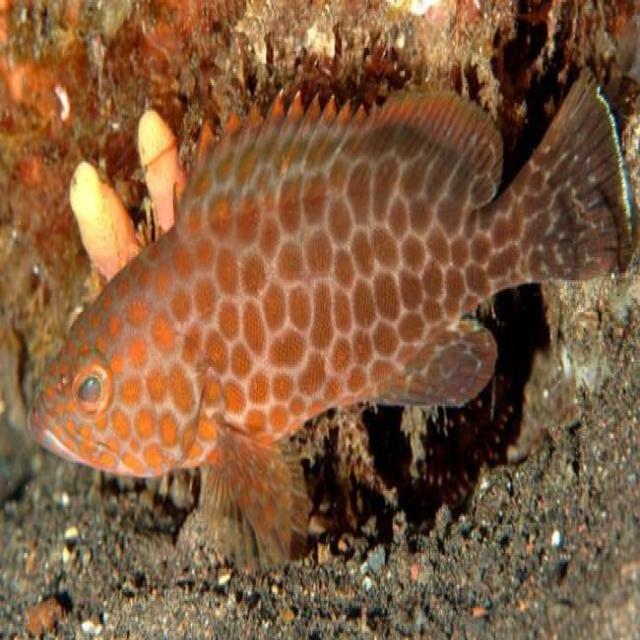ikan: (26, 62, 634, 574)
